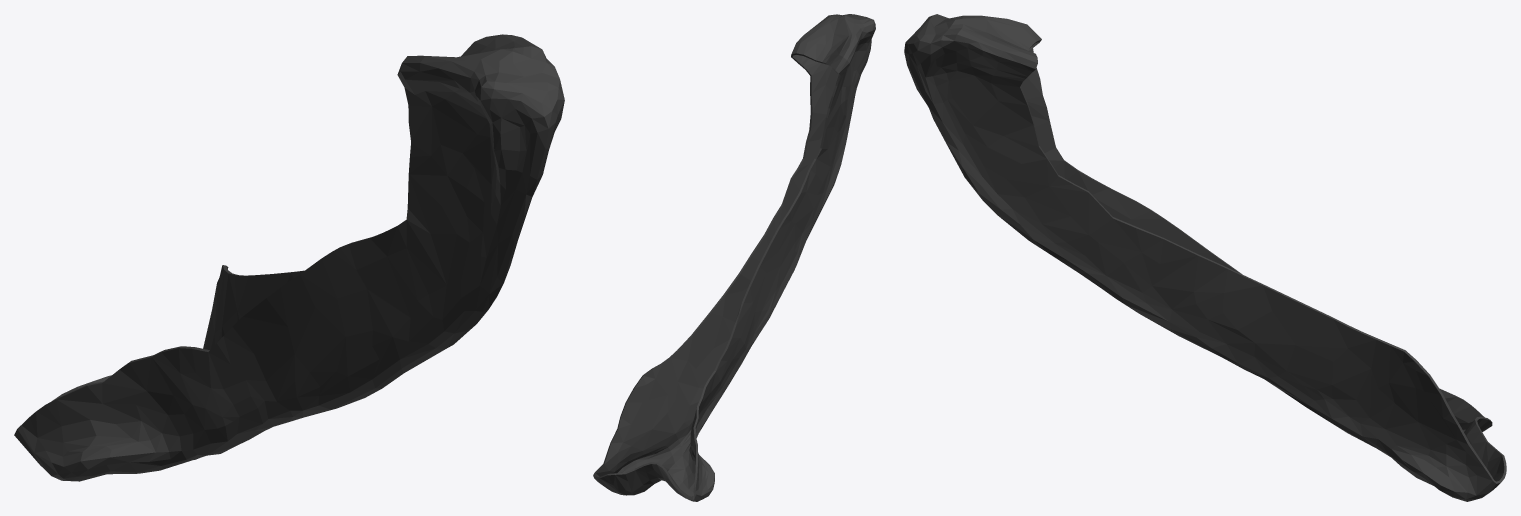
File: c2_spinous_process.glb
3 renders of one model, left to right at view 1: azimuth 30°, elevation 25°; view 2: azimuth 150°, elevation 25°; view 3: azimuth 270°, elevation 25°, orthographic. The views are drawn at different scales.
Visible parts, largest first — view 1: c2_spinous_process; view 2: c2_spinous_process; view 3: c2_spinous_process.
Part boxes in pixels (x1,y1,x2,y2): c2_spinous_process: (14, 34, 564, 481); c2_spinous_process: (593, 14, 875, 501); c2_spinous_process: (904, 14, 1506, 501).
Bounding box in the file's own units: 12.67 × 42.33 × 50.28.
Materials: 1 (1 with a texture image).
